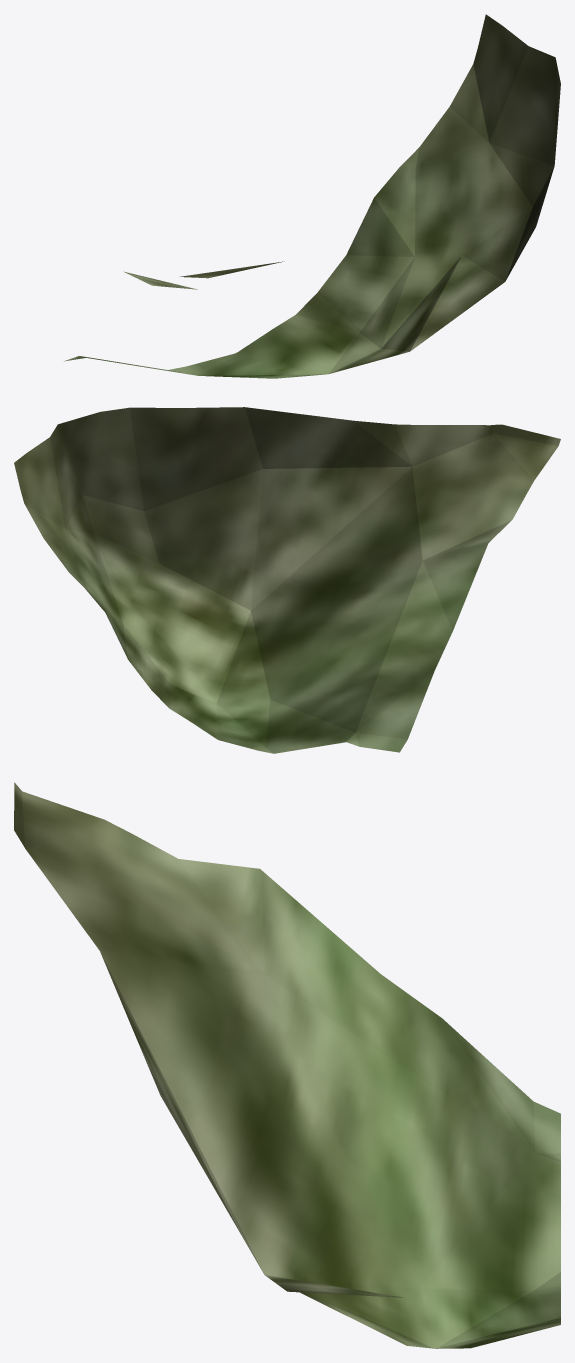
3 views of the same model, one above another, from view 1: azimuth 30°, elevation 25°; view 2: azimuth 150°, elevation 25°; view 3: azimuth 270°, elevation 25° (orthographic). The views are drawn at different scales.
Size of the model in its own units: 0.9212 by 0.517 by 0.6561.
Materials: 1 (1 with a texture image).
